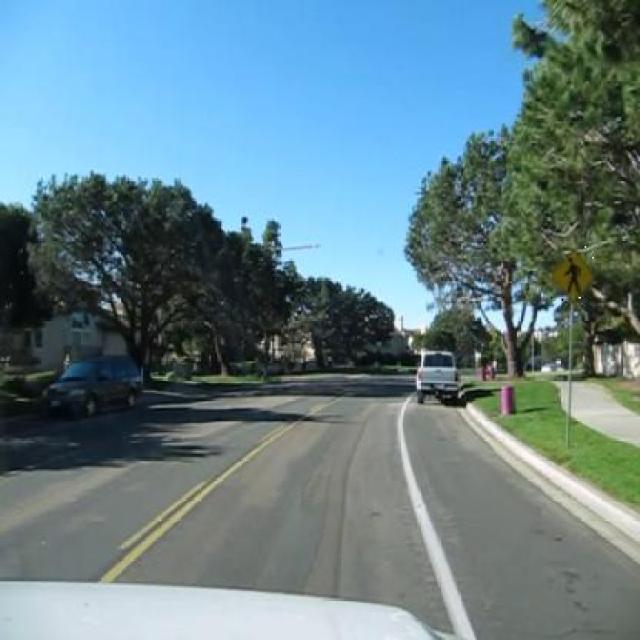pedestrianCrossing: (551, 246, 595, 304)
